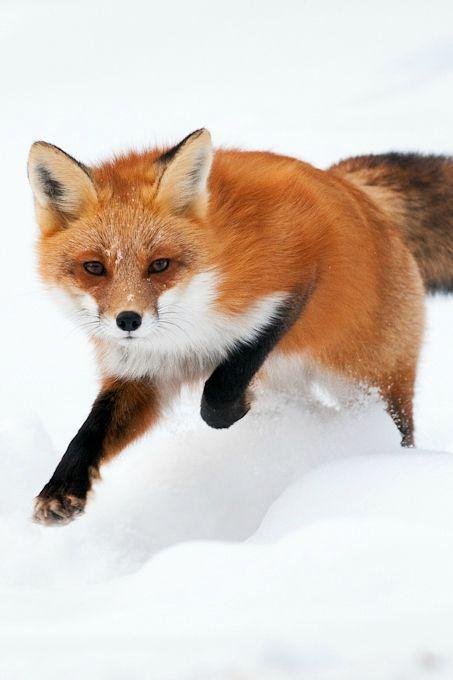fox: (14, 136, 453, 532)
